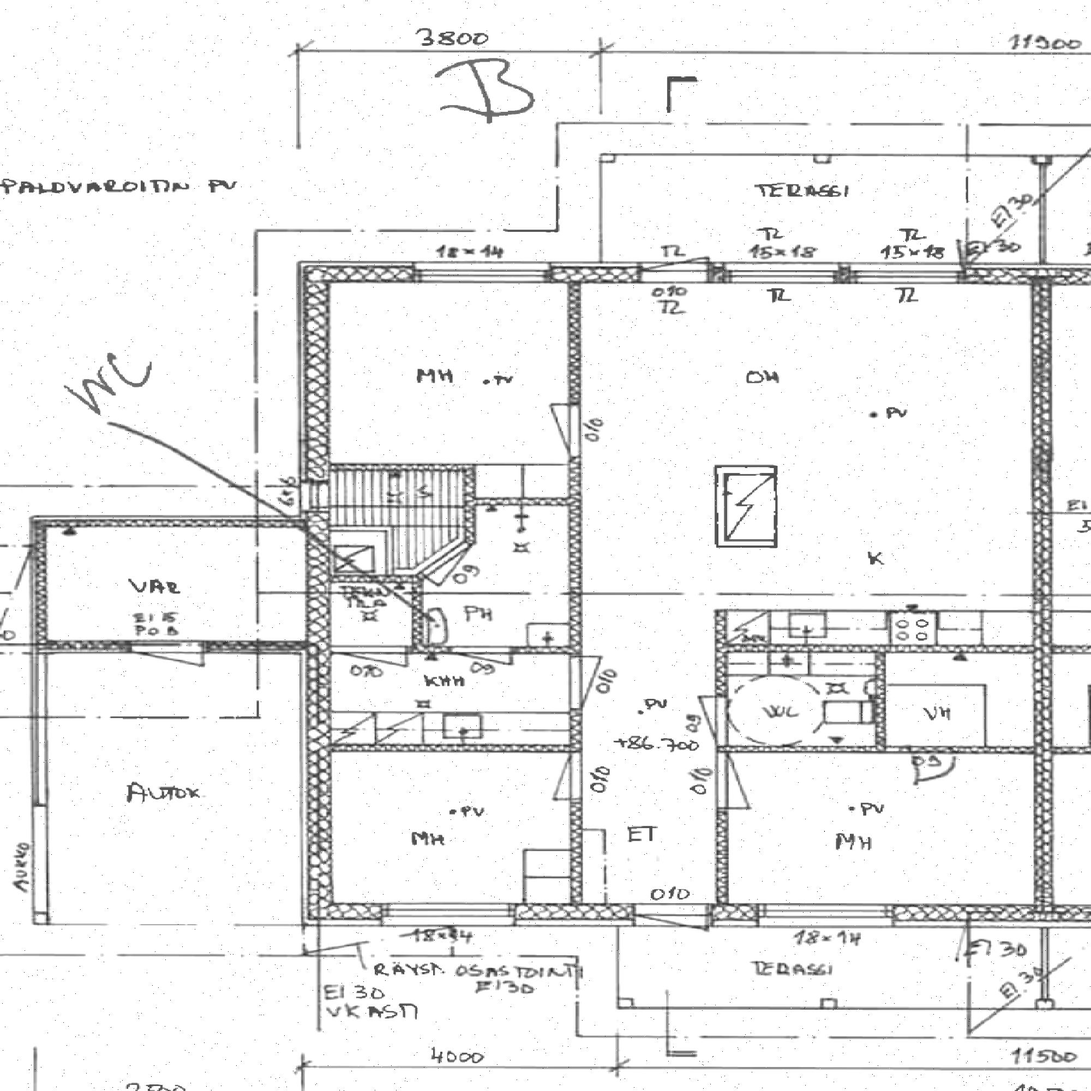wall: (298, 902, 1054, 926), (298, 262, 1054, 284), (1030, 263, 1054, 926), (298, 642, 331, 926), (571, 262, 585, 925), (298, 262, 330, 528), (717, 609, 729, 925), (31, 642, 331, 654), (31, 516, 330, 528), (306, 516, 330, 654), (717, 745, 1054, 753), (416, 539, 474, 580), (717, 645, 1054, 652), (31, 516, 47, 654), (298, 744, 585, 751), (298, 645, 585, 652), (298, 462, 474, 469), (877, 645, 887, 753), (464, 497, 585, 504), (464, 462, 474, 542), (306, 574, 420, 581), (410, 573, 420, 652), (715, 467, 725, 546), (715, 539, 775, 547), (715, 467, 775, 474)
